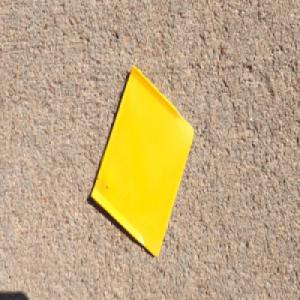PlasticPart: (89, 63, 194, 258)
